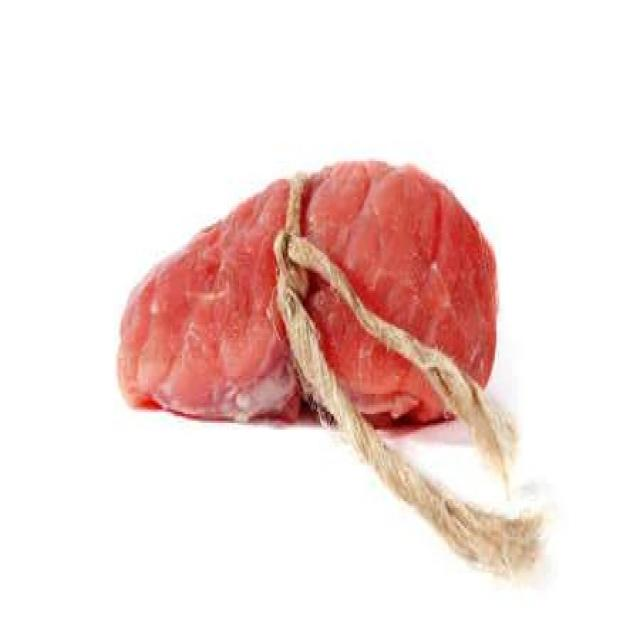Pork: (112, 152, 503, 433)
